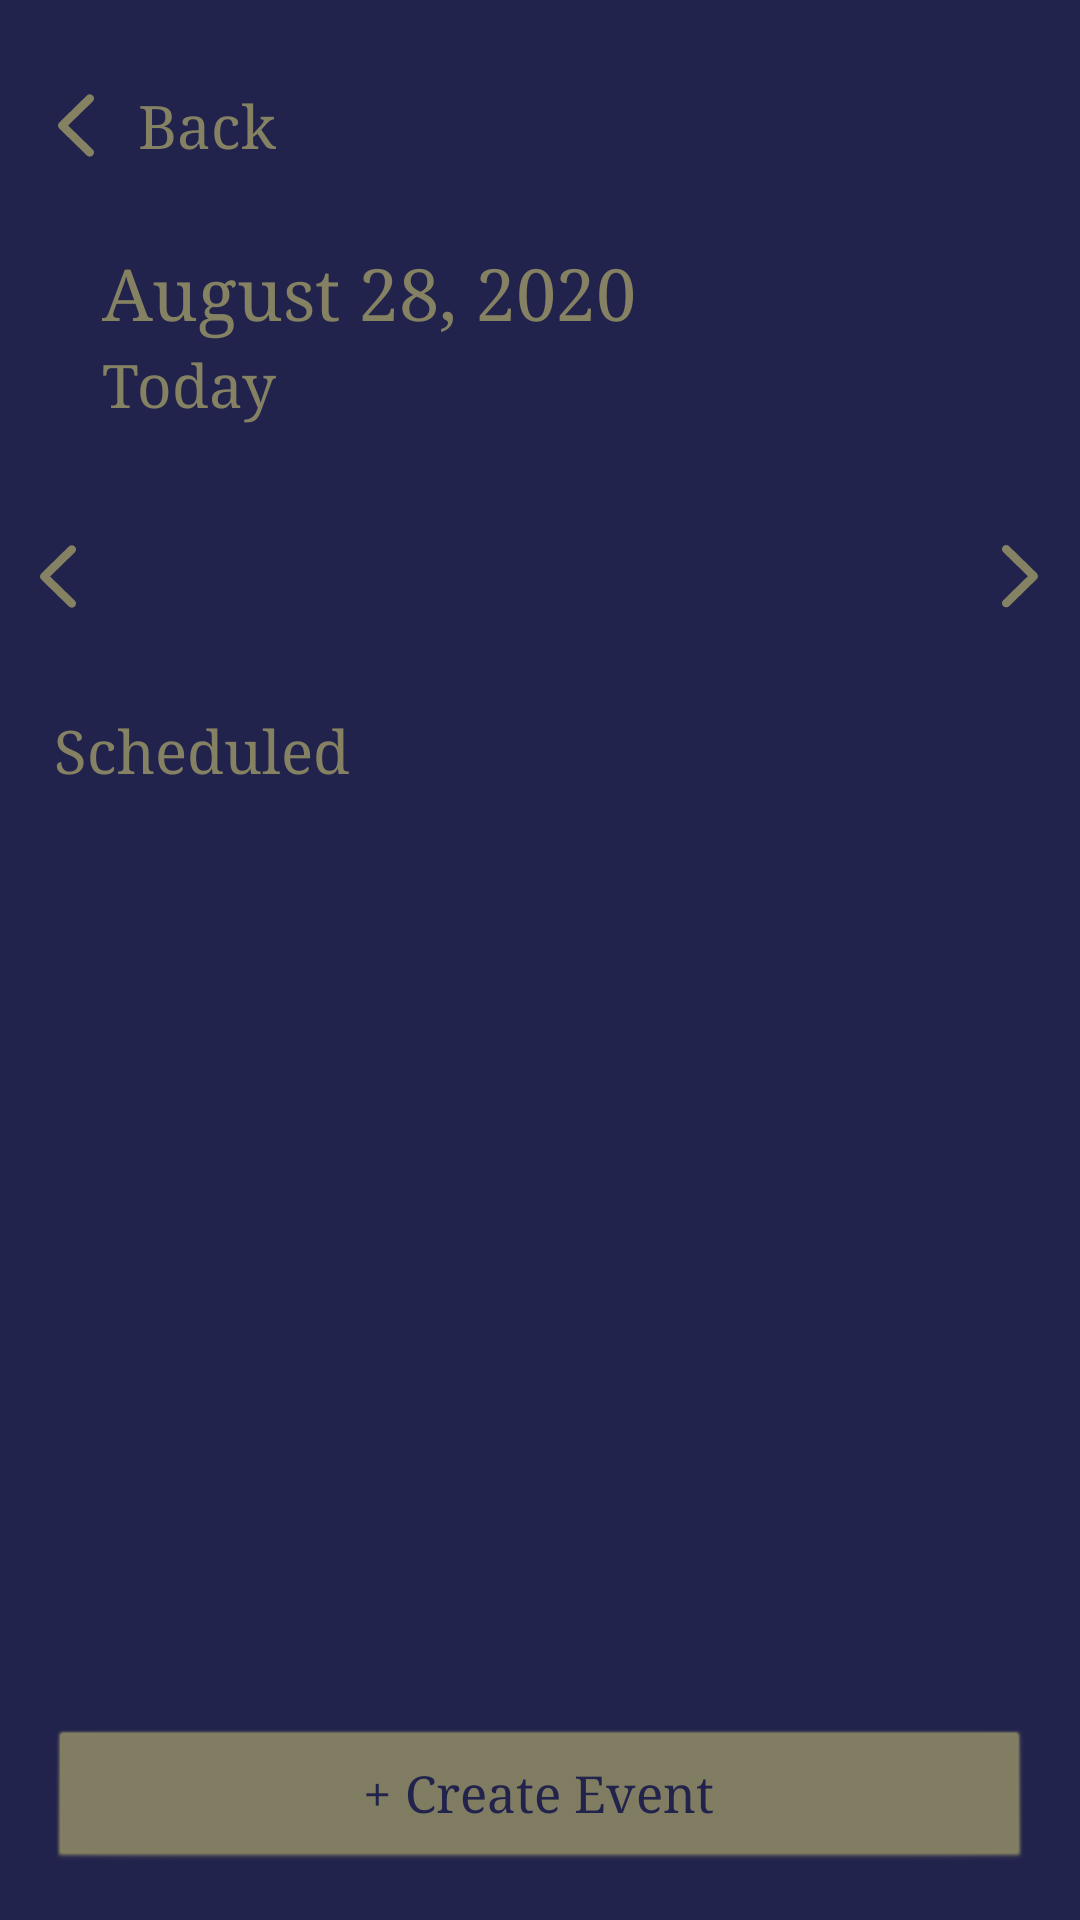

Where to tap for icons on this 1080*1920 app screen, as [x,y]:
Next week: [1020,576]
Previous week: [58,576]
